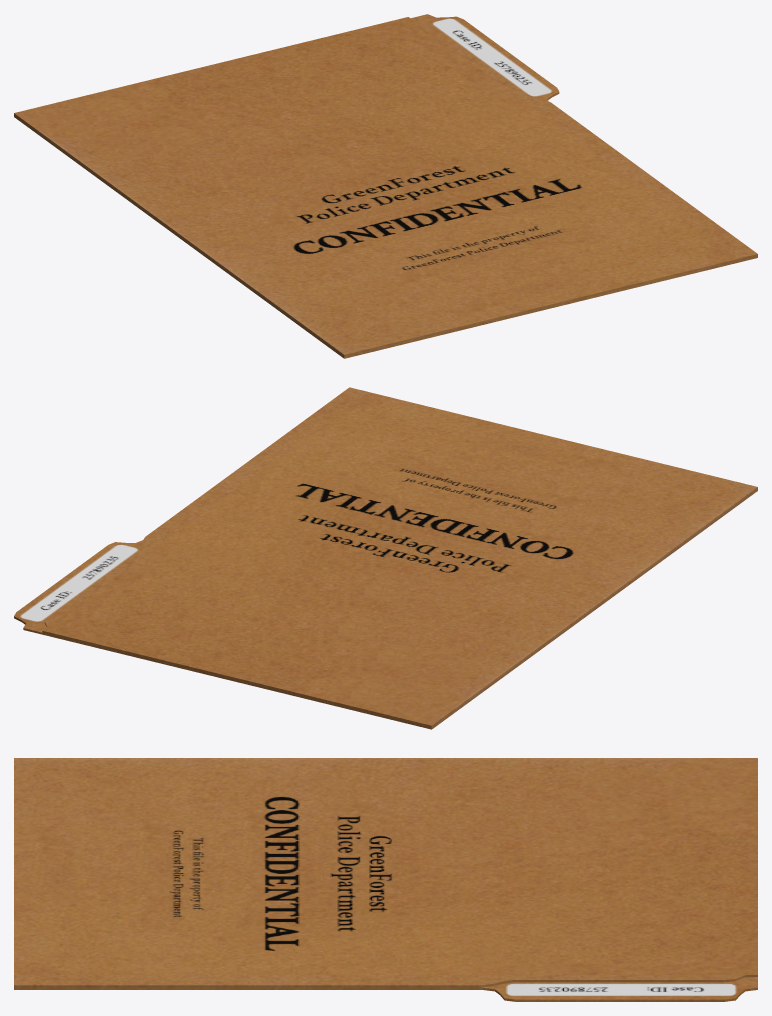
The model's file is case_file_closed.glb.
The picture shows the model from 3 angles, top to bottom: view 1: azimuth 30°, elevation 25°; view 2: azimuth 150°, elevation 25°; view 3: azimuth 270°, elevation 25°; orthographic projection. The views are drawn at different scales.
Visible parts, largest first — view 1: CaseFileTop, CaseFileBottom; view 2: CaseFileTop, CaseFileBottom; view 3: CaseFileTop, CaseFileBottom.
Boxes of the visible parts, x1,y1,x2,y2 form: CaseFileTop: (14, 17, 757, 356); CaseFileBottom: (14, 14, 757, 358); CaseFileTop: (42, 387, 757, 727); CaseFileBottom: (14, 489, 757, 729); CaseFileTop: (14, 758, 757, 987); CaseFileBottom: (14, 977, 757, 1001).
Size of the model in its own units: 0.2322 by 0.00202 by 0.3052.
1 material, 1 textured.
